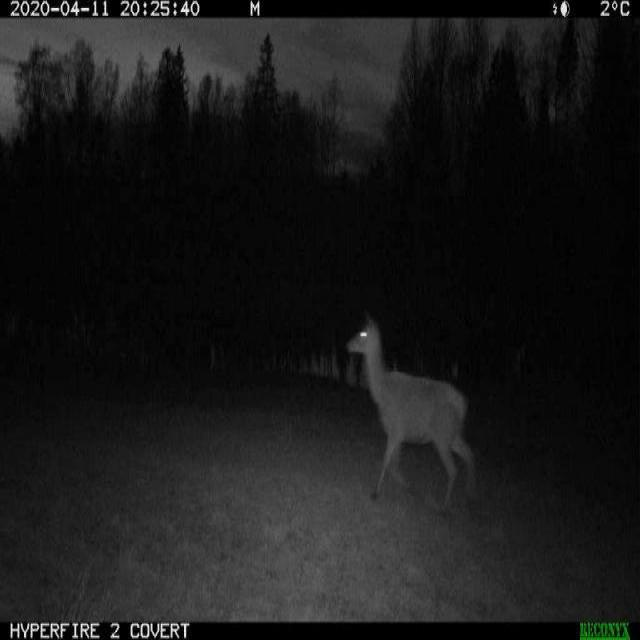deer: (334, 294, 488, 518)
